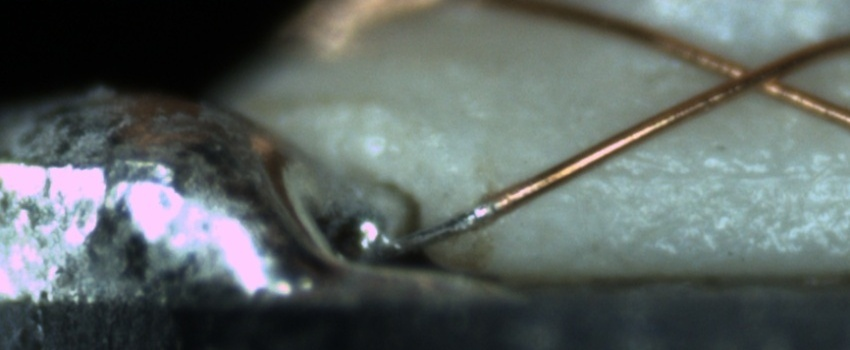CL: (689, 43, 812, 106)
DL: (602, 143, 849, 202)
TS: (393, 200, 502, 253)
TTCW: (398, 170, 549, 253)
